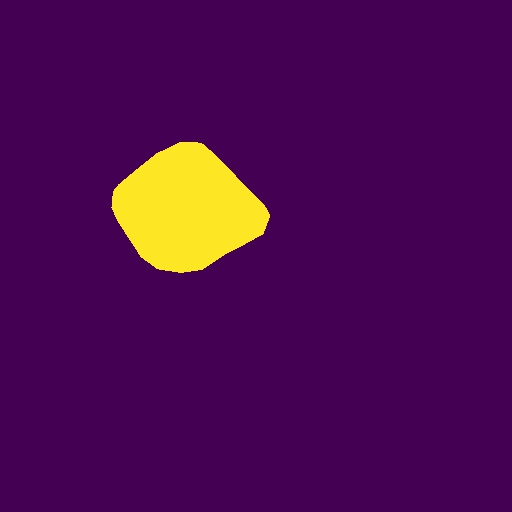Gliomia_tumour: (111, 142, 270, 273)
